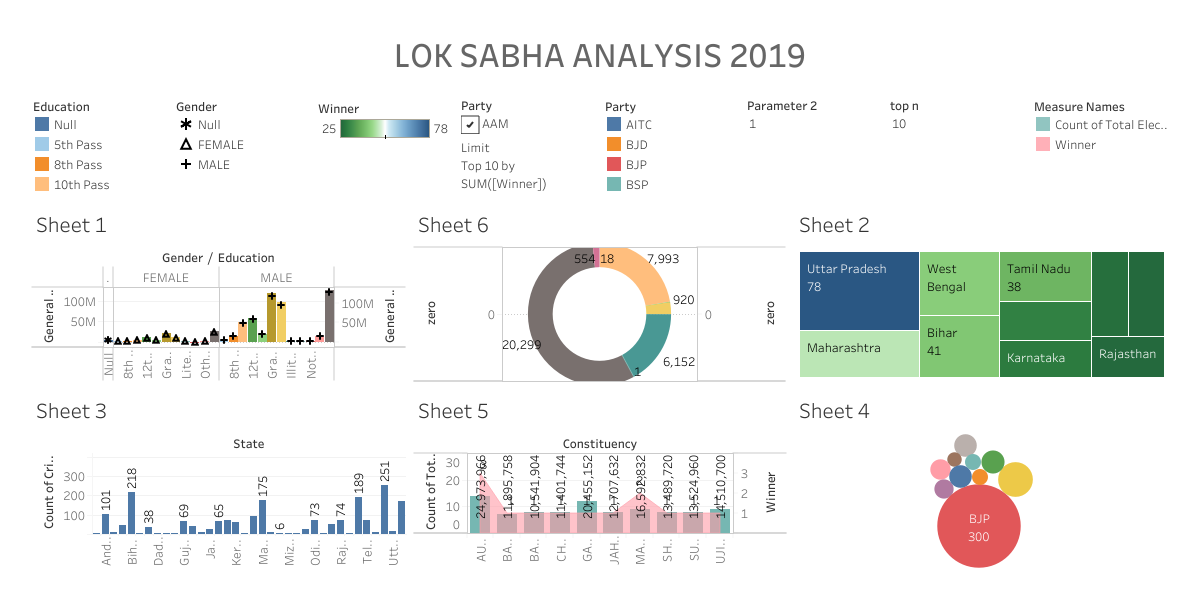

This screenshot's page, from the dashboard's own definition file:
{"tool":"tableau","page":{"name":"Dashboard 1","canvas":[1000,1000],"units":"permille","ordinal":0},"visuals":[{"type":"text","box":[24.7,46.7,950.6,86.7]},{"type":"legend","title":"Sheet 1","param":"[federated.12i7m4p01gq4ym16eciwd1cswdcq].[none:EDUCATION:nk]","box":[24.7,151.7,119,181.7]},{"type":"legend","title":"Sheet 1","param":"[federated.12i7m4p01gq4ym16eciwd1cswdcq].[none:GENDER:nk]","box":[143.7,151.7,119,181.7]},{"type":"legend","title":"Sheet 2","param":"[federated.12i7m4p01gq4ym16eciwd1cswdcq].[sum:WINNER:qk]","box":[262.8,151.7,119,181.7]},{"type":"filter","title":"Sheet 4","param":"[federated.12i7m4p01gq4ym16eciwd1cswdcq].[none:PARTY:nk]","box":[381.8,151.7,119,181.7]},{"type":"legend","title":"Sheet 4","param":"[federated.12i7m4p01gq4ym16eciwd1cswdcq].[none:PARTY:nk]","box":[500.9,151.7,119,181.7]},{"type":"parameter","param":"[Parameters].[Parameter 2]","box":[619.9,151.7,119,181.7]},{"type":"parameter","param":"[Parameters].[Parameter 3]","box":[739,151.7,118.2,181.7]},{"type":"legend","title":"Sheet 5","param":"[federated.12i7m4p01gq4ym16eciwd1cswdcq].[:Measure Names]","box":[857.1,151.7,118.2,181.7]},{"type":"worksheet","title":"Sheet 1","mark":"Automatic","rows":["GENERAL VOTES","GENERAL VOTES"],"cols":["GENDER","EDUCATION"],"box":[24.7,333.3,317.5,310]},{"type":"worksheet","title":"Sheet 6","mark":"Pie","rows":["Calculation_2671479012791619584","Calculation_2671479012791619584"],"box":[342.2,333.3,316.6,310]},{"type":"worksheet","title":"Sheet 2","mark":"Automatic","box":[658.7,333.3,316.6,310]},{"type":"worksheet","title":"Sheet 3","mark":"Automatic","rows":["CRIMINAL CASES"],"cols":["STATE"],"box":[24.7,643.3,317.5,310]},{"type":"worksheet","title":"Sheet 5","mark":"Automatic","rows":["TOTAL ELECTORS","WINNER"],"cols":["CONSTITUENCY"],"box":[342.2,643.3,316.6,310]},{"type":"worksheet","title":"Sheet 4","mark":"Circle","box":[658.7,643.3,316.6,310]}]}

Visuals, with their boxes on the dashboard's canvas, which has no fixed pixel size, in thousandths of its width and height (x1, y1, x2, y2). These are canvas units, not pixel positions in the 1199x599 screenshot, which may show the page scaled, cropped or inside an application window:
text: [25,47,975,133]
"Sheet 1" legend: [25,152,144,333]
"Sheet 1" legend: [144,152,263,333]
"Sheet 2" legend: [263,152,382,333]
"Sheet 4" filter: [382,152,501,333]
"Sheet 4" legend: [501,152,620,333]
parameter: [620,152,739,333]
parameter: [739,152,857,333]
"Sheet 5" legend: [857,152,975,333]
"Sheet 1" worksheet: [25,333,342,643]
"Sheet 6" worksheet (Pie marks): [342,333,659,643]
"Sheet 2" worksheet: [659,333,975,643]
"Sheet 3" worksheet: [25,643,342,953]
"Sheet 5" worksheet: [342,643,659,953]
"Sheet 4" worksheet (Circle marks): [659,643,975,953]
